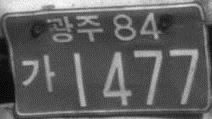1: (71, 51, 89, 108)
4: (101, 51, 131, 106), (138, 11, 163, 41)
7: (168, 47, 200, 107), (132, 49, 163, 106)
8: (112, 13, 137, 42)
가: (20, 54, 57, 94)
광주_O: (45, 12, 103, 43)
